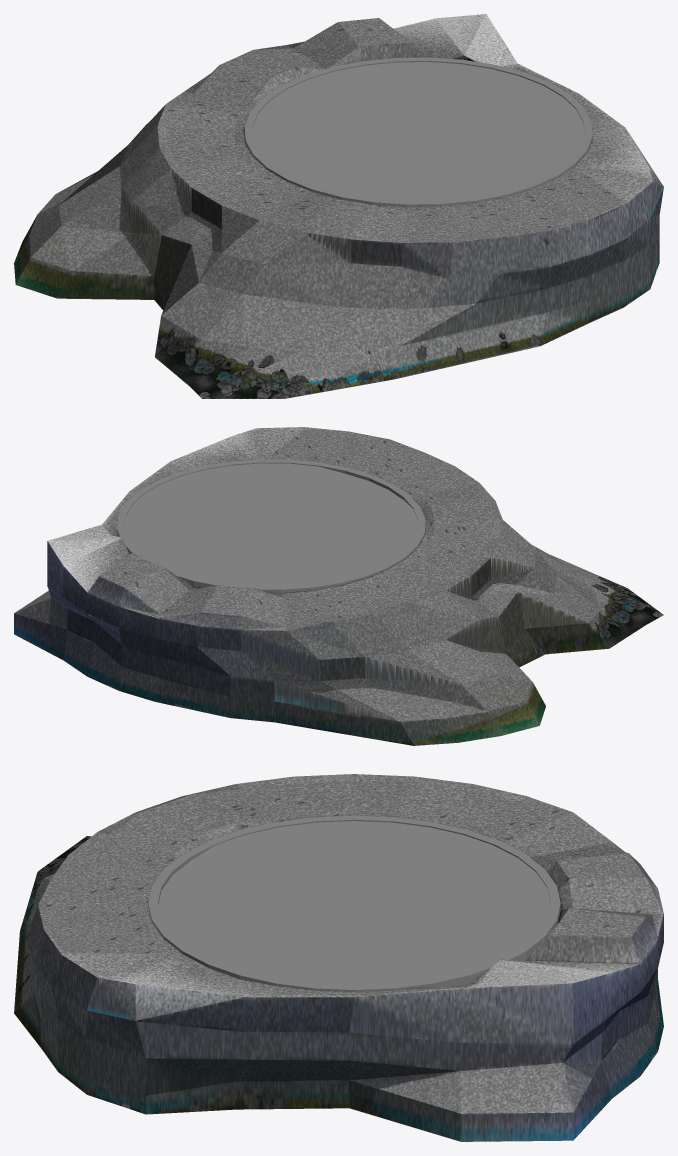
Rendered from LirghtHouseRock.fbx.
3 renders of one model, top to bottom at view 1: azimuth 30°, elevation 25°; view 2: azimuth 150°, elevation 25°; view 3: azimuth 270°, elevation 25°, orthographic. The views are drawn at different scales.
Visible parts, largest first — view 1: LighthouseRock; view 2: LighthouseRock; view 3: LighthouseRock.
Part boxes in pixels (x1,y1,x2,y2): LighthouseRock: (14, 14, 663, 398); LighthouseRock: (14, 427, 663, 745); LighthouseRock: (14, 774, 663, 1141).
Size of the model in its own units: 7293 by 6300 by 1532.
2 materials, 1 textured.
